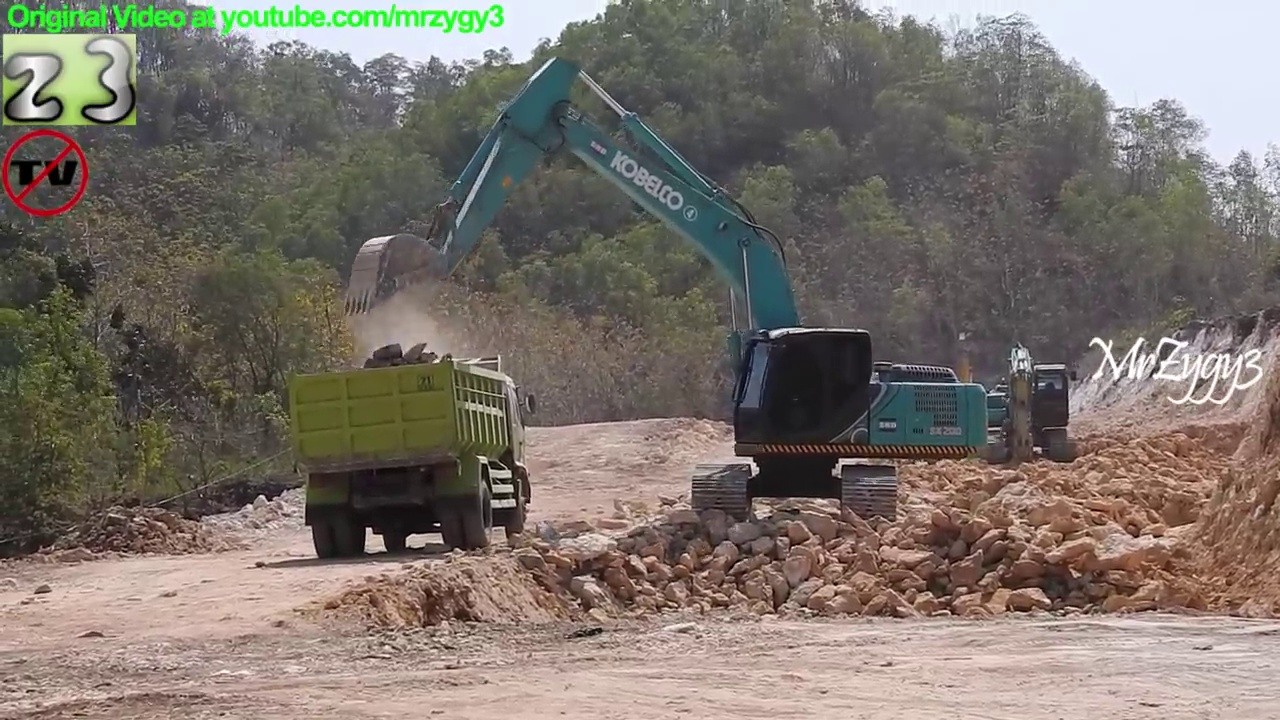excavator: (338, 54, 995, 527), (953, 338, 1081, 476), (906, 330, 1007, 462)
truck: (284, 340, 543, 565)
